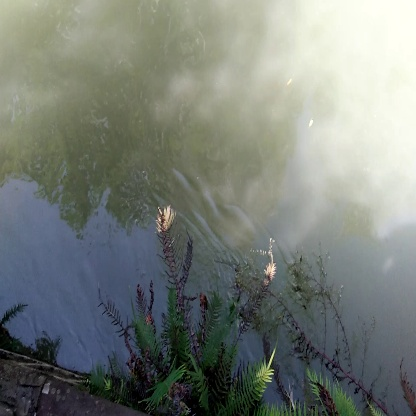grass: (135, 294, 261, 413)
